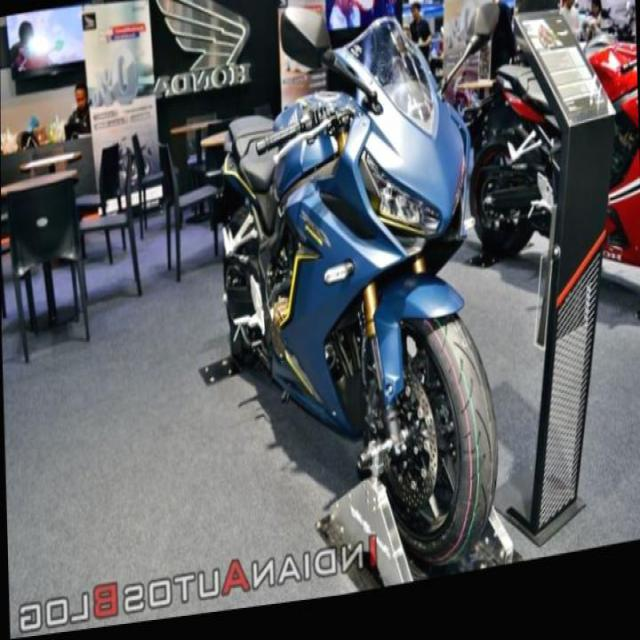CBR650R: (215, 9, 500, 616)
